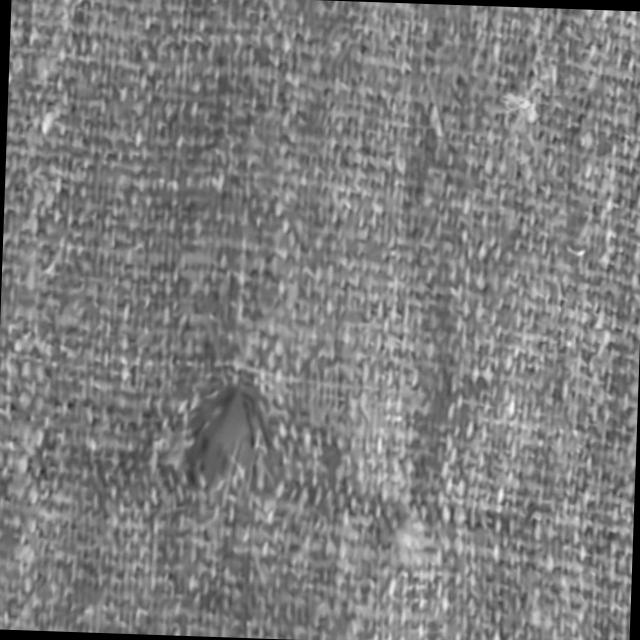hole: (120, 341, 326, 538)
